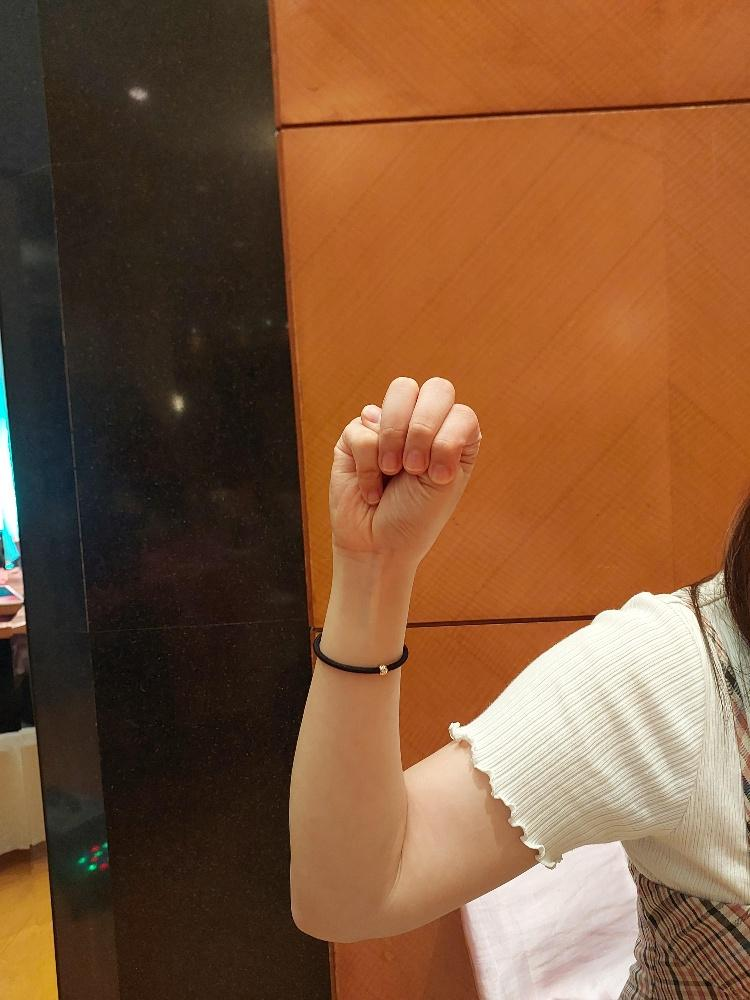m: (326, 372, 483, 563)
